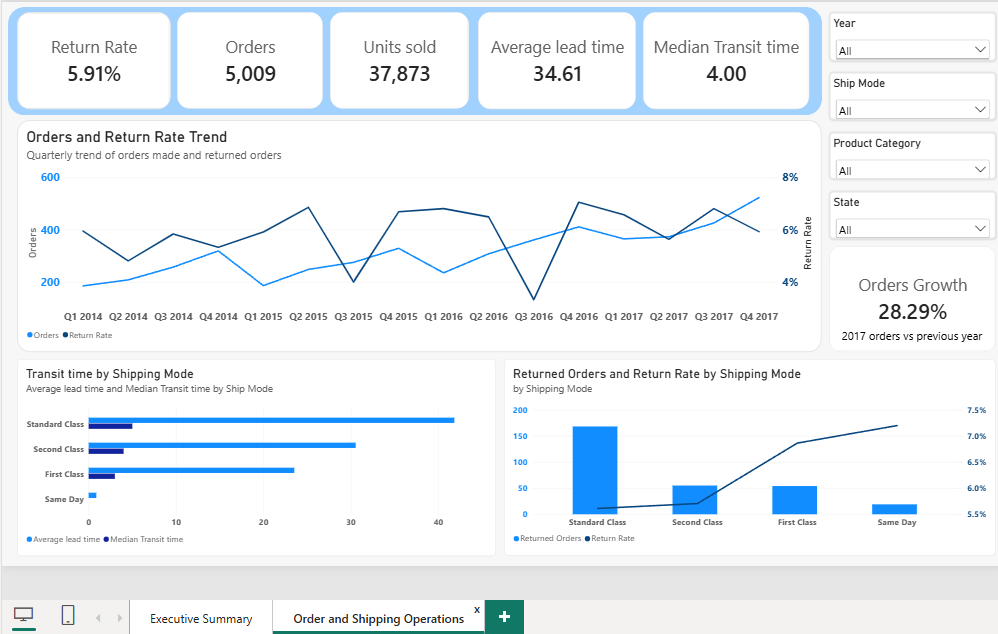

Layout of this report page (visuals, bound fields, positions):
{"tool":"powerbi","page":{"name":"Order and Shipping Operations","canvas":[1920,1080],"ordinal":1},"visuals":[{"type":"shape","box":[12,9,1556.8,207],"z":0},{"type":"cardVisual","fields":{"Data":["Retails Order Full Dataset.Return Rate"]},"box":[29.1,18.8,293.9,186.3],"z":1000},{"type":"cardVisual","fields":{"Data":["Retails Order Full Dataset.Total Orders"]},"box":[334.9,18.8,279.2,185.5],"z":2000},{"type":"lineStackedColumnComboChart","title":"Returned Orders and Return Rate by Shipping Mode","fields":{"Category":["Retails Order Full Dataset.Ship Mode"],"Y":["Retails Order Full Dataset.NumberOfReturns"],"Y2":["Retails Order Full Dataset.Return Rate"]},"box":[960.4,683.5,939.9,375.9],"z":3000},{"type":"cardVisual","fields":{"Data":["Avg(Retails Order Full Dataset.Shipping Days)"]},"box":[910.8,18.8,302.5,186.3],"z":4000},{"type":"clusteredBarChart","title":"Transit time by Shipping Mode","fields":{"Category":["Retails Order Full Dataset.Ship Mode"],"Y":["Avg(Retails Order Full Dataset.Shipping Days)","Retails Order Full Dataset.Median of Shipping Days"]},"box":[28.7,682.7,916,376.7],"z":5000},{"type":"slicer","title":"State","fields":{"Values":["Retails Order Full Dataset.State"]},"box":[1580.7,360.6,319.6,92.3],"z":6000},{"type":"slicer","title":"Product Category","fields":{"Values":["Retails Order Full Dataset.Category"]},"box":[1580.7,247.8,319.6,90.6],"z":7000},{"type":"lineChart","title":"Orders and Return Rate Trend","fields":{"Category":["Retails Order Full Dataset.Quarter"],"Y":["Count(Retails Order Full Dataset.Order ID)"],"Y2":["Retails Order Full Dataset.Return Rate"]},"box":[28.7,225.7,1539.4,443.7],"z":8000},{"type":"slicer","title":"Ship Mode","fields":{"Values":["Retails Order Full Dataset.Ship Mode"]},"box":[1580.7,133.3,319.6,92.3],"z":9000},{"type":"slicer","title":"Year","fields":{"Values":["Retails Order Full Dataset.Year"]},"box":[1580.7,18.8,319.6,94],"z":10000},{"type":"cardVisual","fields":{"Data":["Retails Order Full Dataset.Median of Shipping Days"]},"box":[1225.3,18.8,317.8,186.3],"z":11000},{"type":"cardVisual","fields":{"Data":["Retails Order Full Dataset.Sales Growth %"]},"box":[1581.5,466.6,319.4,202.7],"z":12000},{"type":"textbox","box":[1581.5,623.4,317.5,45.9],"z":13000},{"type":"cardVisual","fields":{"Data":["Sum(Retails Order Full Dataset.Quantity)"]},"box":[627.2,18.8,265.8,185.5],"z":14000}]}

Visuals, with their boxes on the page's 1920x1080 design canvas (x1, y1, x2, y2). These are canvas units, not pixel positions in the 998x634 screenshot, which may show the page scaled, cropped or inside an application window:
shape: locate(12, 9, 1569, 216)
cardVisual - Retails Order Full Dataset.Return Rate: locate(29, 19, 323, 205)
cardVisual - Retails Order Full Dataset.Total Orders: locate(335, 19, 614, 204)
"Returned Orders and Return Rate by Shipping Mode" lineStackedColumnComboChart: locate(960, 684, 1900, 1059)
cardVisual - Avg(Retails Order Full Dataset.Shipping Days): locate(911, 19, 1213, 205)
"Transit time by Shipping Mode" clusteredBarChart: locate(29, 683, 945, 1059)
"State" slicer: locate(1581, 361, 1900, 453)
"Product Category" slicer: locate(1581, 248, 1900, 338)
"Orders and Return Rate Trend" lineChart: locate(29, 226, 1568, 669)
"Ship Mode" slicer: locate(1581, 133, 1900, 226)
"Year" slicer: locate(1581, 19, 1900, 113)
cardVisual - Retails Order Full Dataset.Median of Shipping Days: locate(1225, 19, 1543, 205)
cardVisual - Retails Order Full Dataset.Sales Growth %: locate(1582, 467, 1901, 669)
textbox: locate(1582, 623, 1899, 669)
cardVisual - Sum(Retails Order Full Dataset.Quantity): locate(627, 19, 893, 204)
